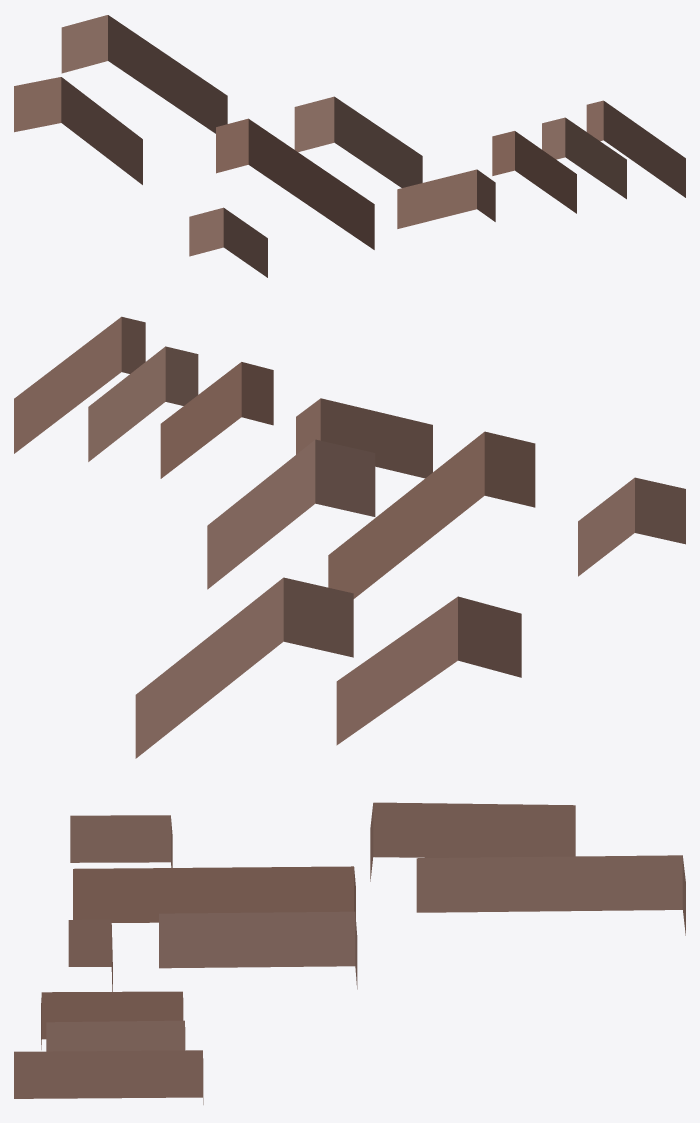
File: c_1631_17833_buildings_residential.glb
3 renders of one model, top to bottom at view 1: azimuth 30°, elevation 25°; view 2: azimuth 150°, elevation 25°; view 3: azimuth 270°, elevation 25°, orthographic. The views are drawn at different scales.
Visible parts, largest first — view 1: geometry_0; view 2: geometry_0; view 3: geometry_0.
Boxes of the visible parts, left/top/right/bottom form: geometry_0: left=14, top=15, right=685, bottom=277; geometry_0: left=14, top=316, right=685, bottom=758; geometry_0: left=14, top=802, right=685, bottom=1104.
Bounding box in the file's own units: 110 × 11.81 × 123.
